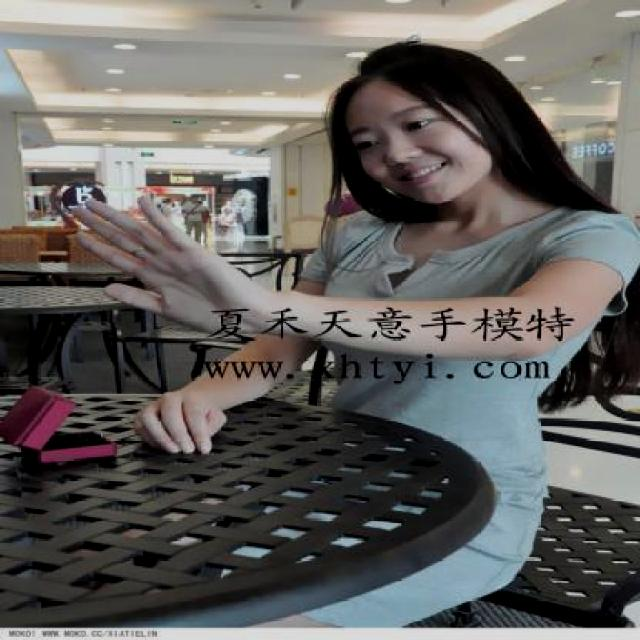face_nomask: (344, 98, 488, 214)
hand_noglove: (68, 192, 264, 336), (136, 391, 227, 454)
head_nohelmet: (323, 40, 452, 109)
person: (68, 15, 622, 640)
